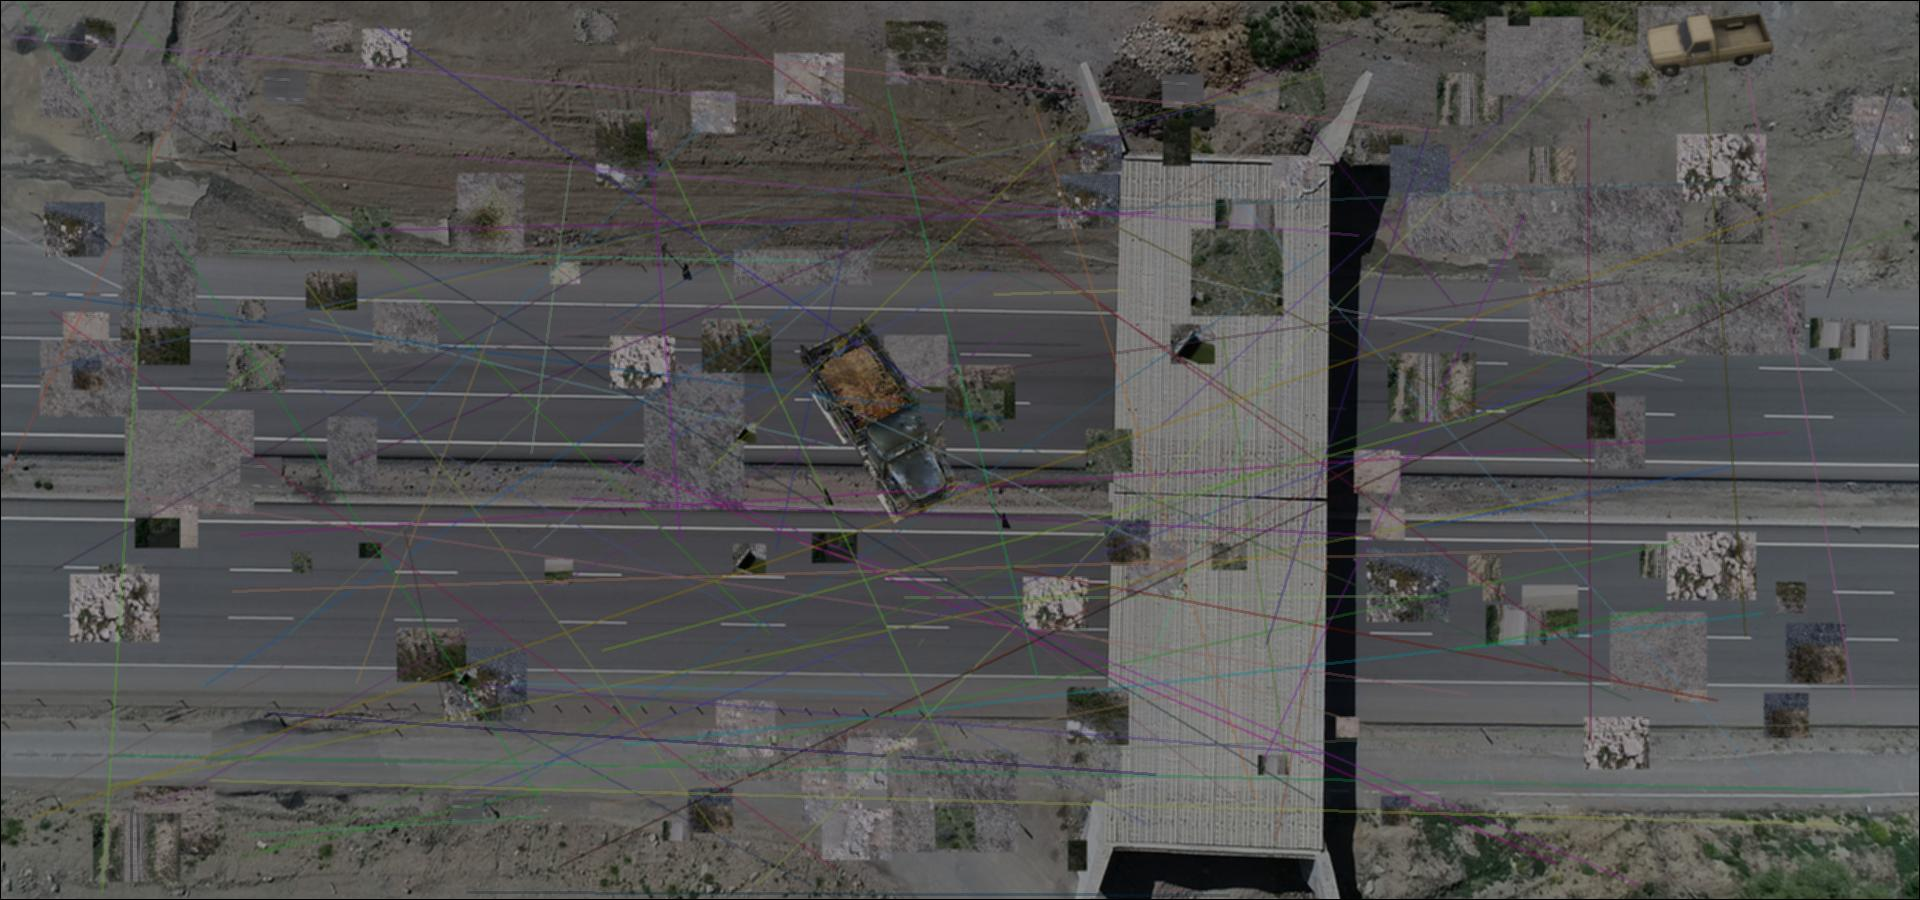arac: (796, 317, 958, 523), (1643, 9, 1774, 78)
